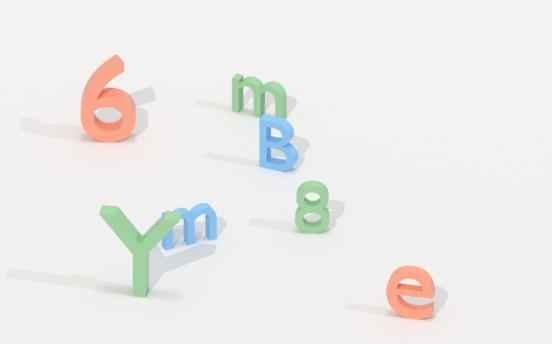6: (78, 53, 141, 146)
8: (291, 178, 335, 237)
Y-hoa: (90, 201, 196, 303)
b: (252, 111, 302, 175)
e: (383, 264, 438, 323)
m: (153, 199, 223, 249), (226, 71, 291, 122)
